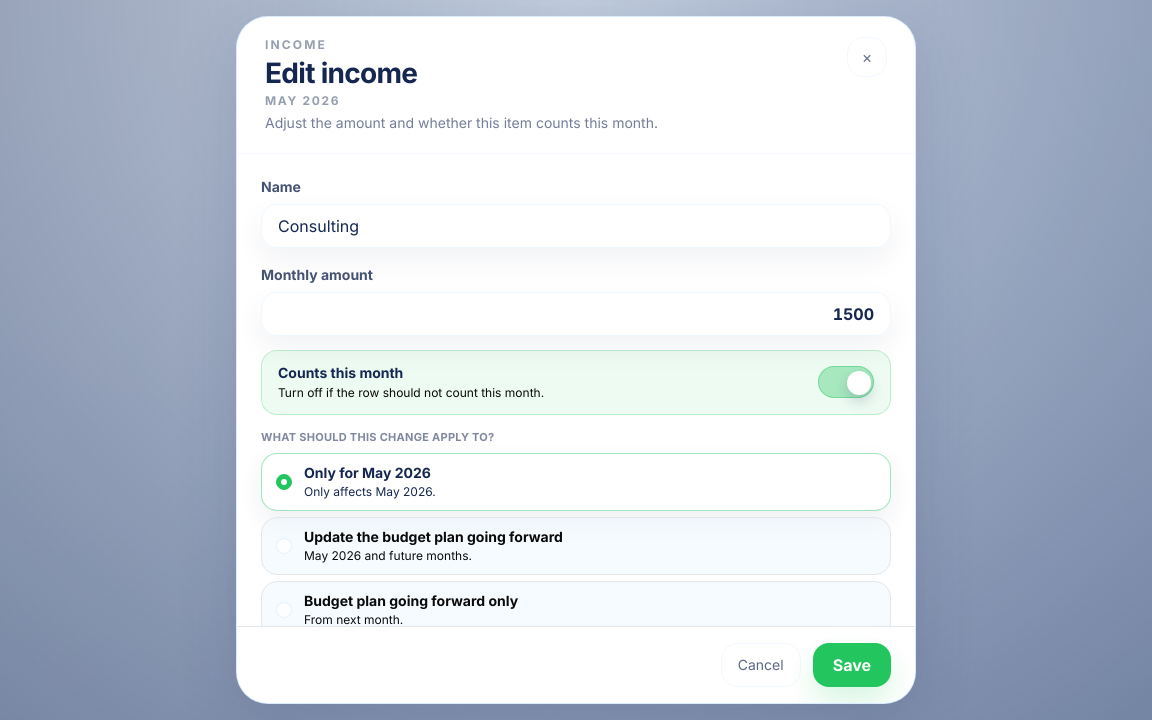
Scenario: IncomeItemModal › preview goes to the inactive copy when the user toggles the row off
The image size is (1152, 720).
Click the switch with test id "income-item-modal-active-toggle": (341, 372) x1=261 y1=350 x2=891 y2=414
(page scrolled)
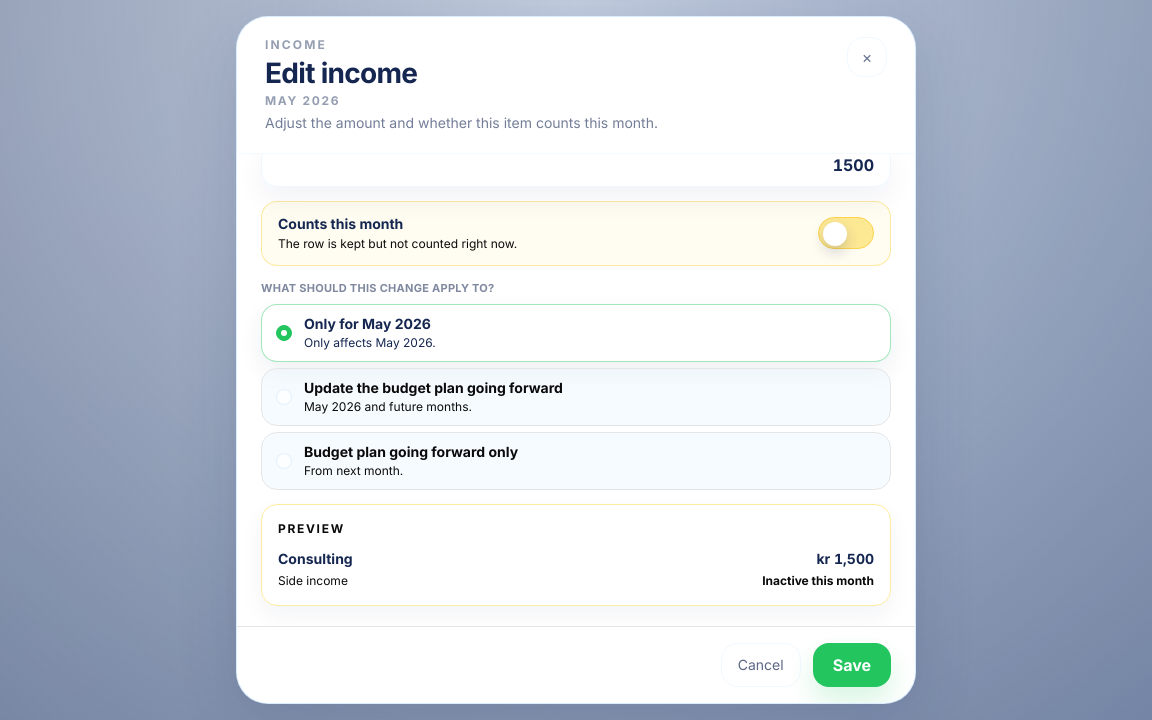
Expected: the text "Inactive this month" is shown, x1=762 y1=573 x2=874 y2=589
